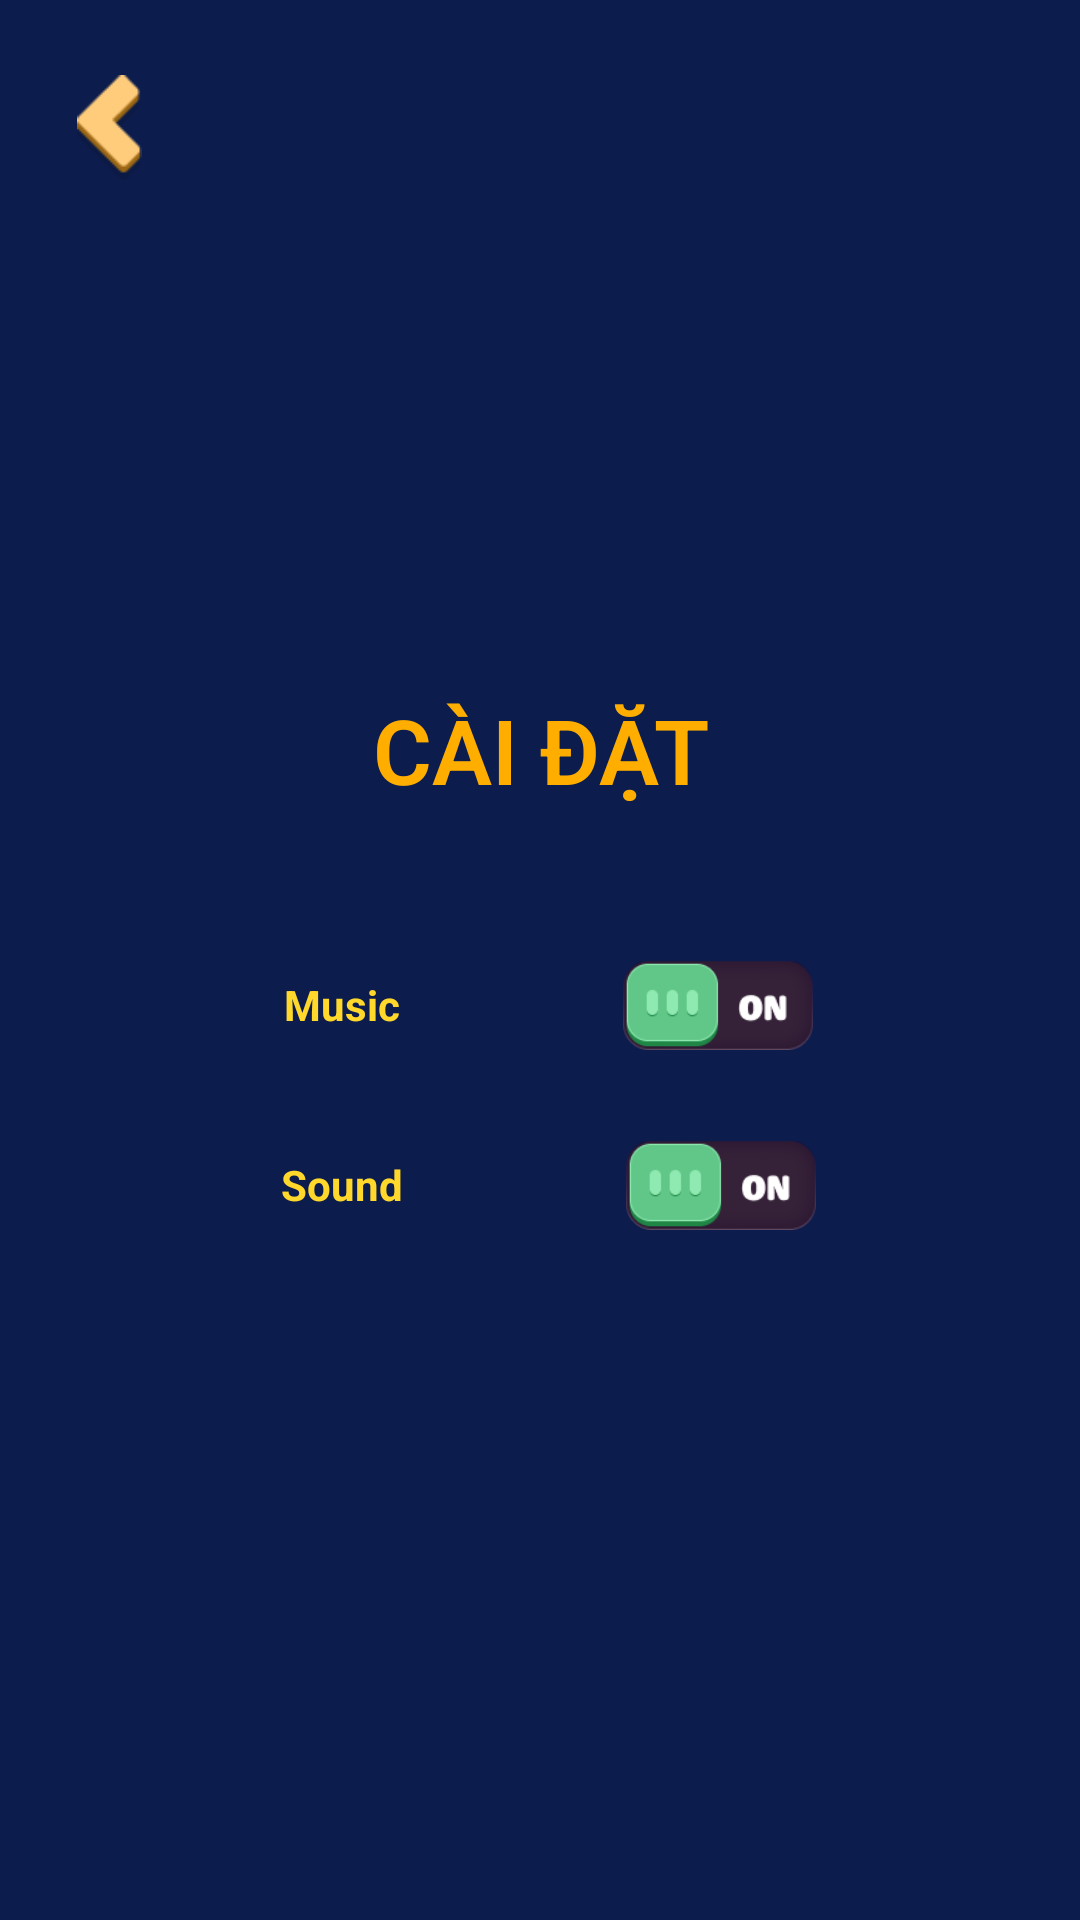

Screen size 1080x1920. Icon name, then its box in pixels as rect(x1, y1, x2, y2):
back: rect(77, 75, 142, 173)
